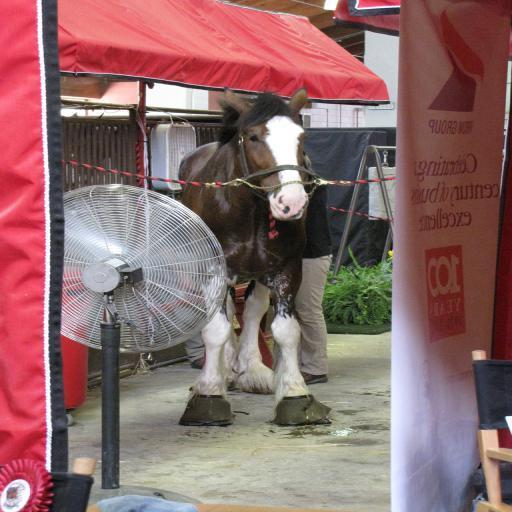horse: (178, 80, 318, 426)
